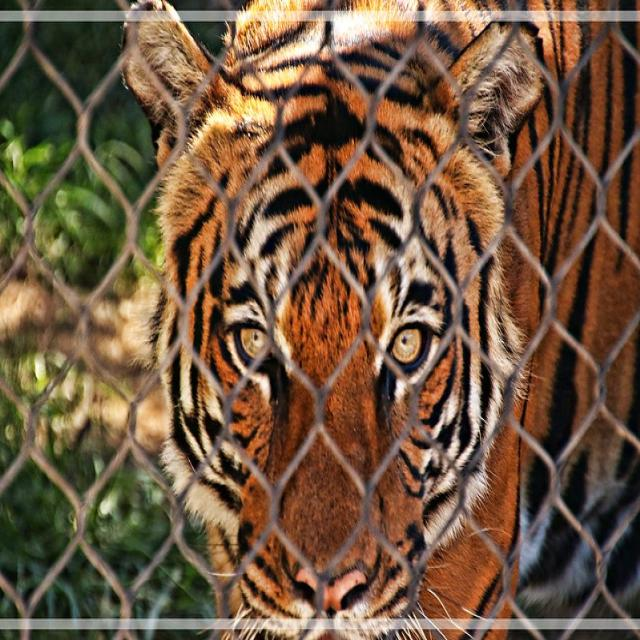Tiger: (117, 0, 637, 639)
